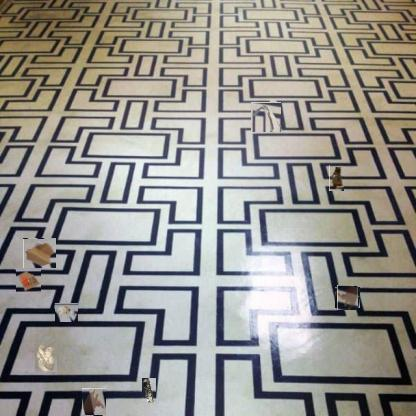dirty: (23, 238, 56, 268), (251, 102, 281, 132), (35, 342, 57, 372), (15, 268, 41, 292), (54, 303, 78, 322), (329, 165, 344, 191), (142, 378, 156, 404)
liquid: (82, 388, 106, 415), (336, 286, 359, 309)
